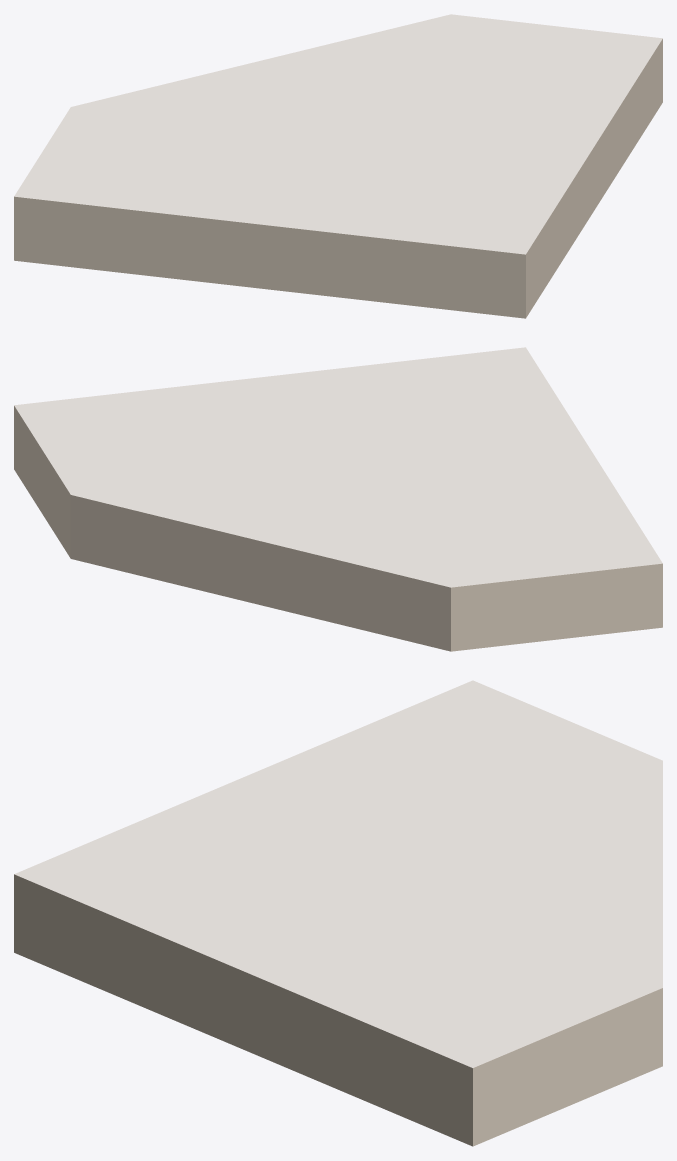
The model's file is Tower_Landing.glb.
3 views of the same model, one above another, from view 1: azimuth 30°, elevation 25°; view 2: azimuth 150°, elevation 25°; view 3: azimuth 270°, elevation 25° (orthographic). The views are drawn at different scales.
Parts seen in each view (by area): view 1: Tower_Landing; view 2: Tower_Landing; view 3: Tower_Landing.
Part boxes in pixels (<box>): Tower_Landing: <box>14,14,662,318</box>; Tower_Landing: <box>14,347,662,651</box>; Tower_Landing: <box>14,680,662,1146</box>.
Bounding box in the file's own units: 0.9546 × 0.09 × 0.675.
